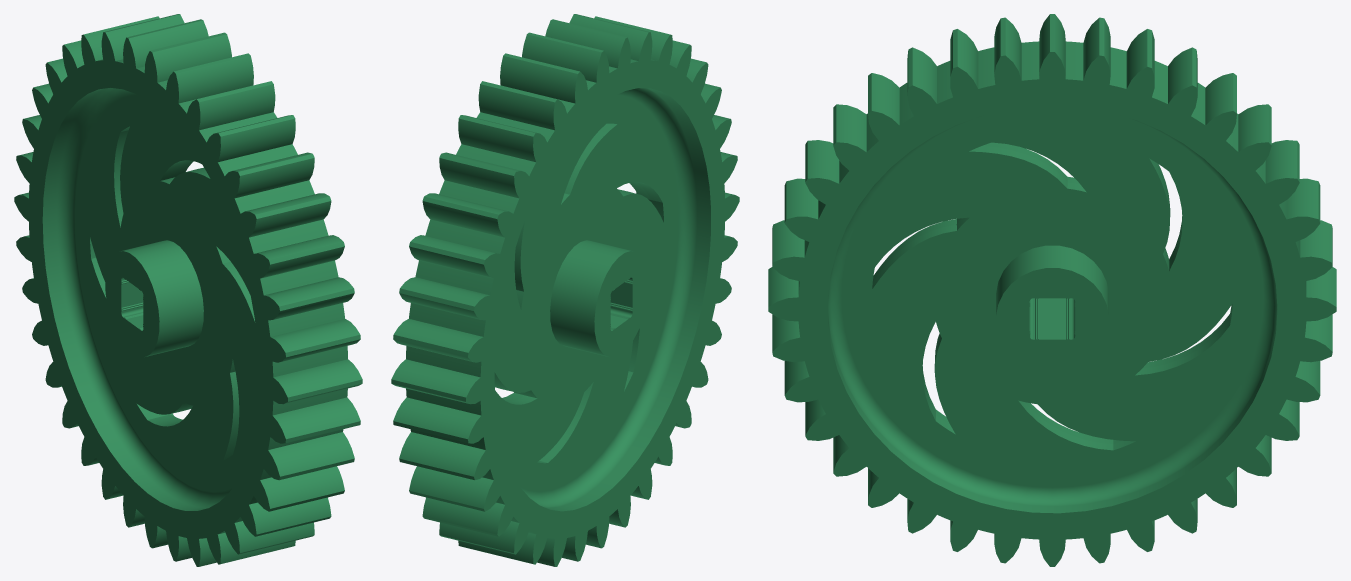
File: gear.glb
3 renders of one model, left to right at view 1: azimuth 30°, elevation 25°; view 2: azimuth 150°, elevation 25°; view 3: azimuth 270°, elevation 25°, orthographic. The views are drawn at different scales.
Parts seen in each view (by area): view 1: Solid1; view 2: Solid1; view 3: Solid1.
Boxes of the visible parts, left/top/right/bottom form: Solid1: left=14, top=14, right=362, bottom=566; Solid1: left=391, top=14, right=739, bottom=566; Solid1: left=768, top=14, right=1336, bottom=566.
Size of the model in its own units: 0.00952 by 0.0402 by 0.0402.
